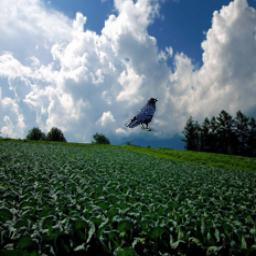Crow: (125, 97, 158, 131)
